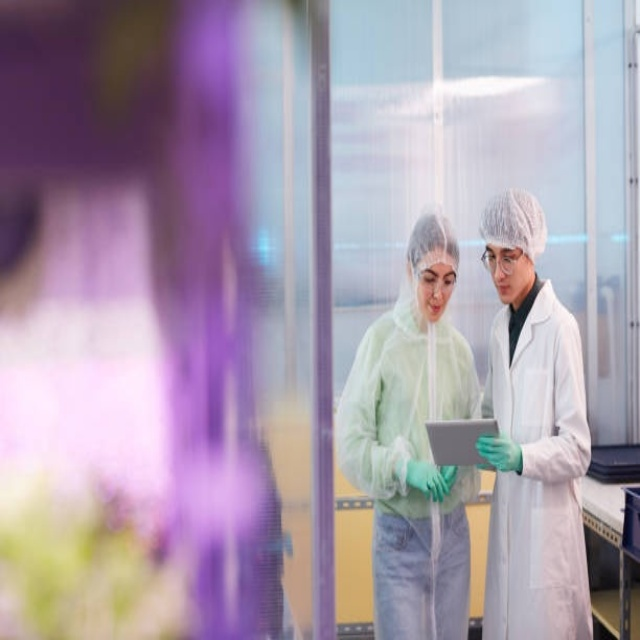Gafas: (482, 248, 526, 276), (417, 268, 458, 291)
Guantes: (407, 453, 456, 502), (474, 433, 521, 474)
Sin_mascara: (494, 279, 512, 303), (426, 298, 444, 320)
